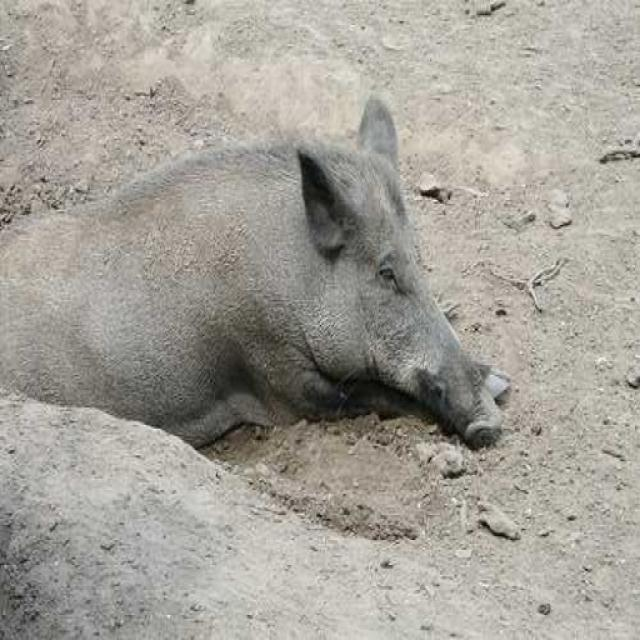pig: (0, 118, 556, 486)
